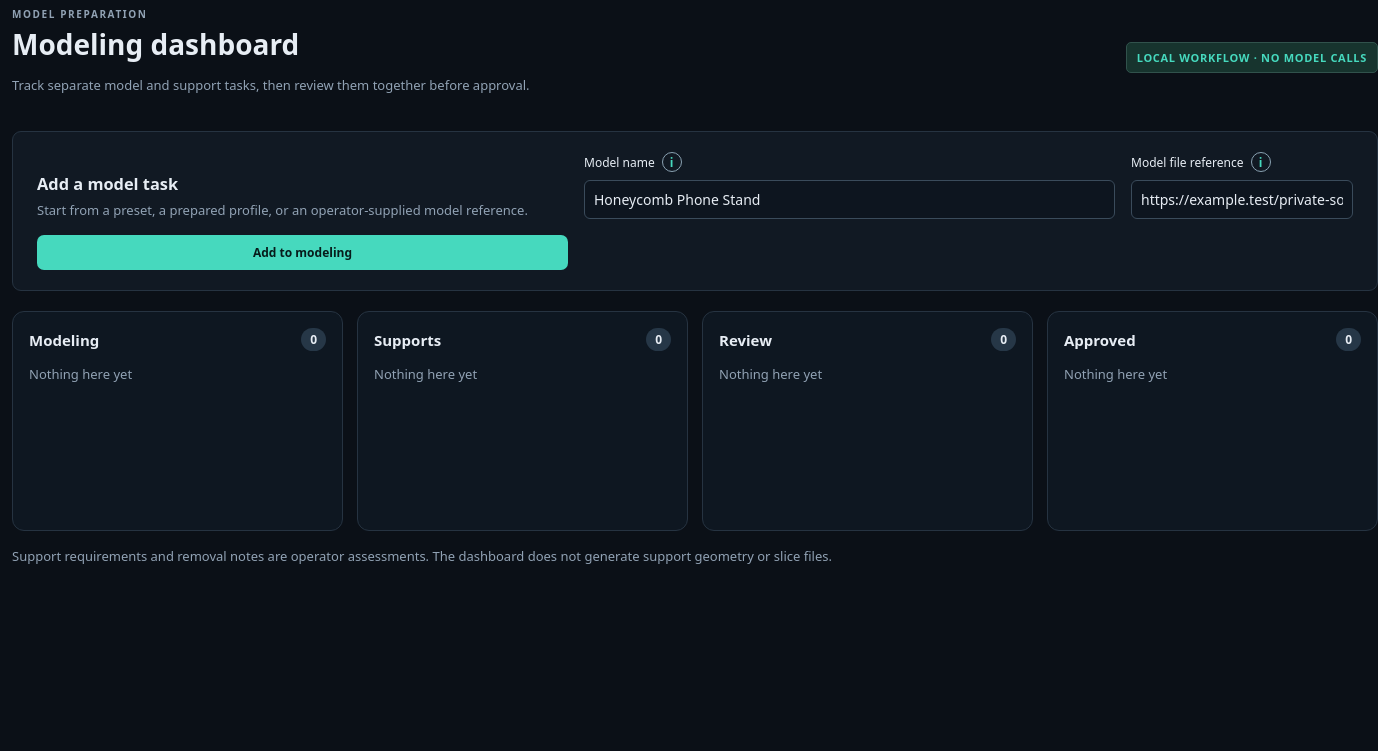
Test: shows print profile details on workflow cards without exposing the source reference
Click the button "Add to modeling". click: (302, 252)
box: x1=37 y1=235 x2=568 y2=270
(page scrolled)
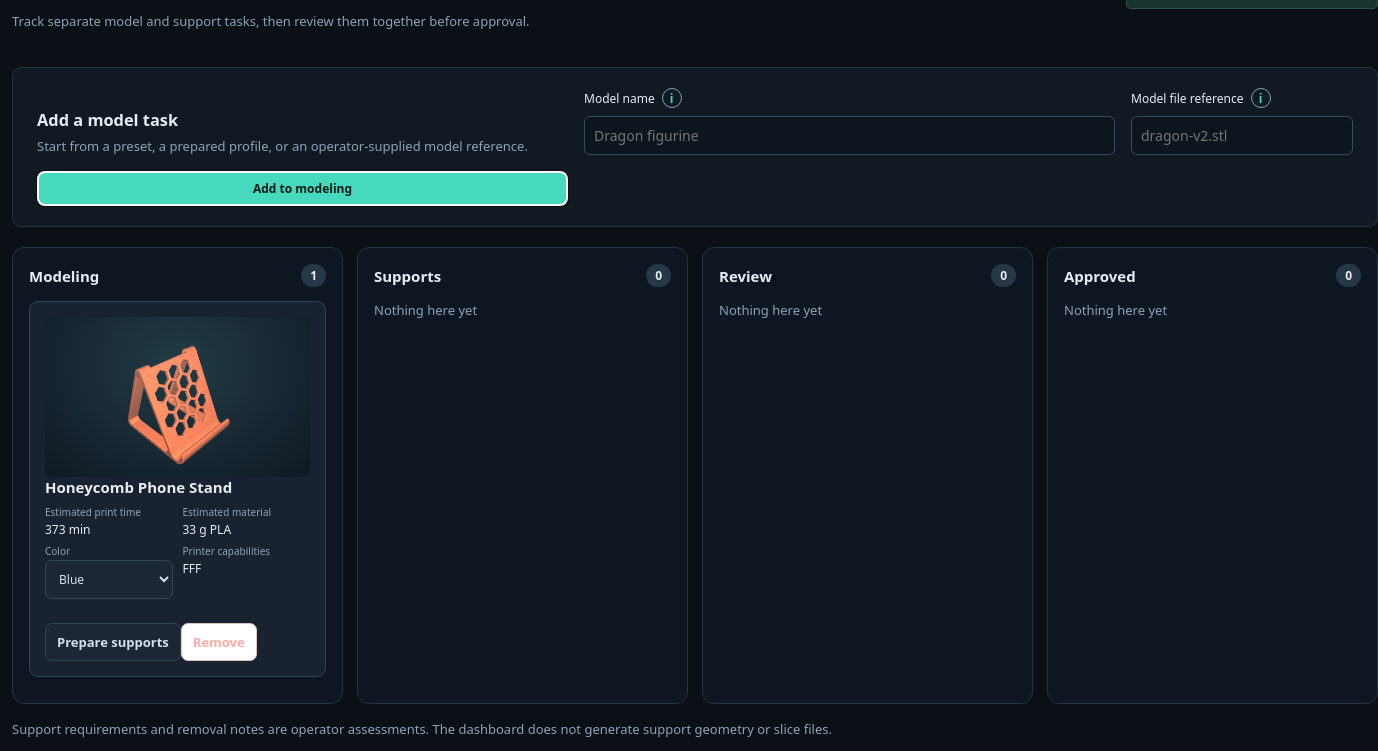
Check: the element named "Modeling stage" shows "Honeycomb Phone Stand", box x1=45 y1=477 x2=232 y2=497
Check: the element named "Modeling stage" shows "373 min", box x1=12 y1=247 x2=343 y2=704
Check: the element named "Modeling stage" shows "33 g PLA", box x1=12 y1=247 x2=343 y2=704
